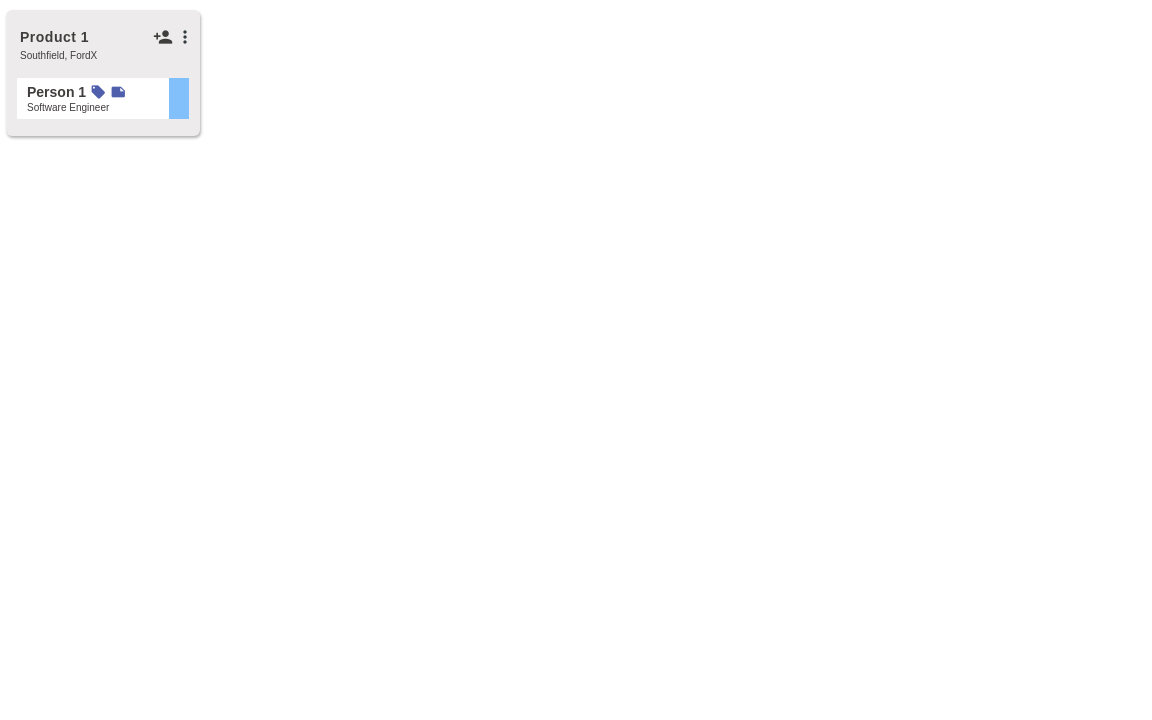
ProductCard › should show a confirmation modal when Archive Person is clicked, and be able to close it
Expected: the text "Edit Product" is not shown
Expected: the text "Archive Product" is not shown
Click the 2nd button.
click(185, 37)  # box [175,24,195,50]
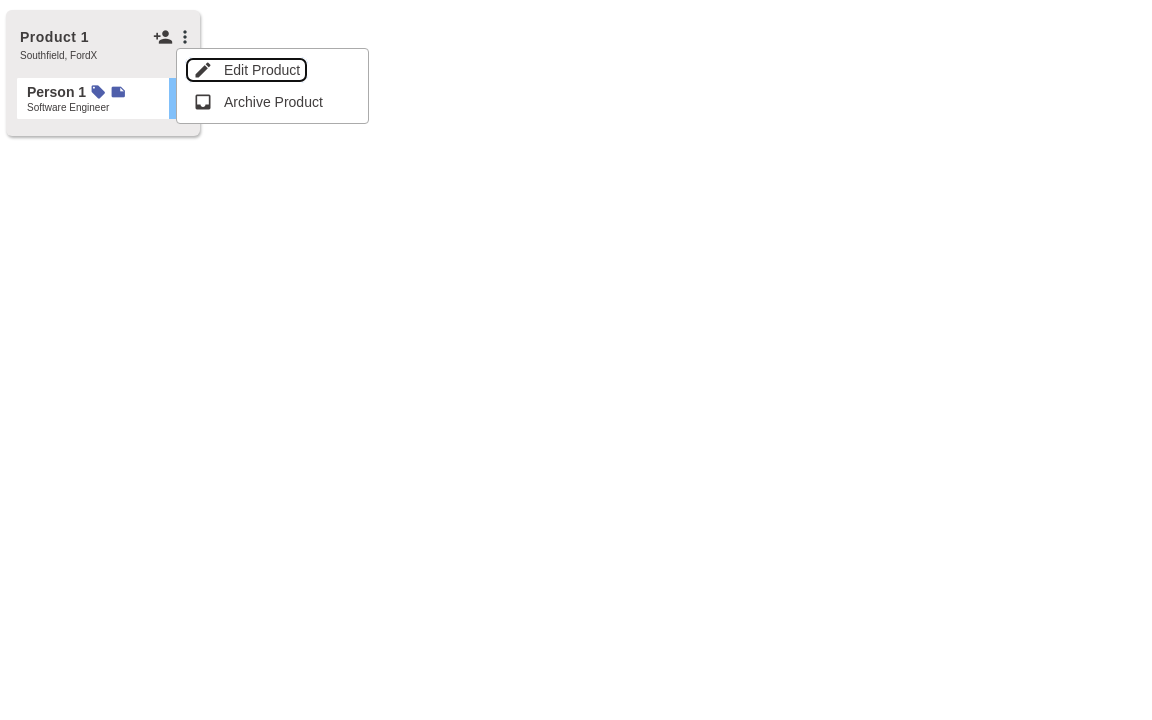
Now the text "Edit Product" is shown, box [224,62,300,78]
Now the text "Archive Product" is shown
Click the text "Archive Product".
click(273, 102)  # box [224,94,323,110]
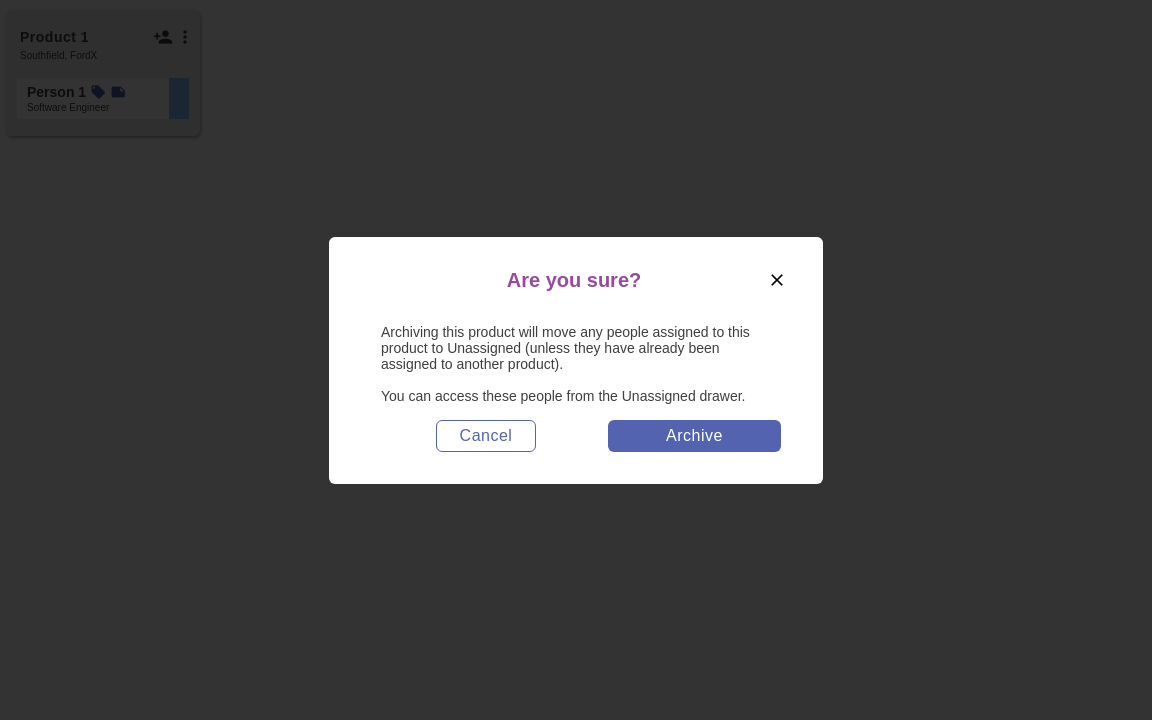
Now the heading "Are you sure?" is shown, box [507,268,641,290]
Click the button "Cancel".
click(486, 436)  # box [436,420,536,452]
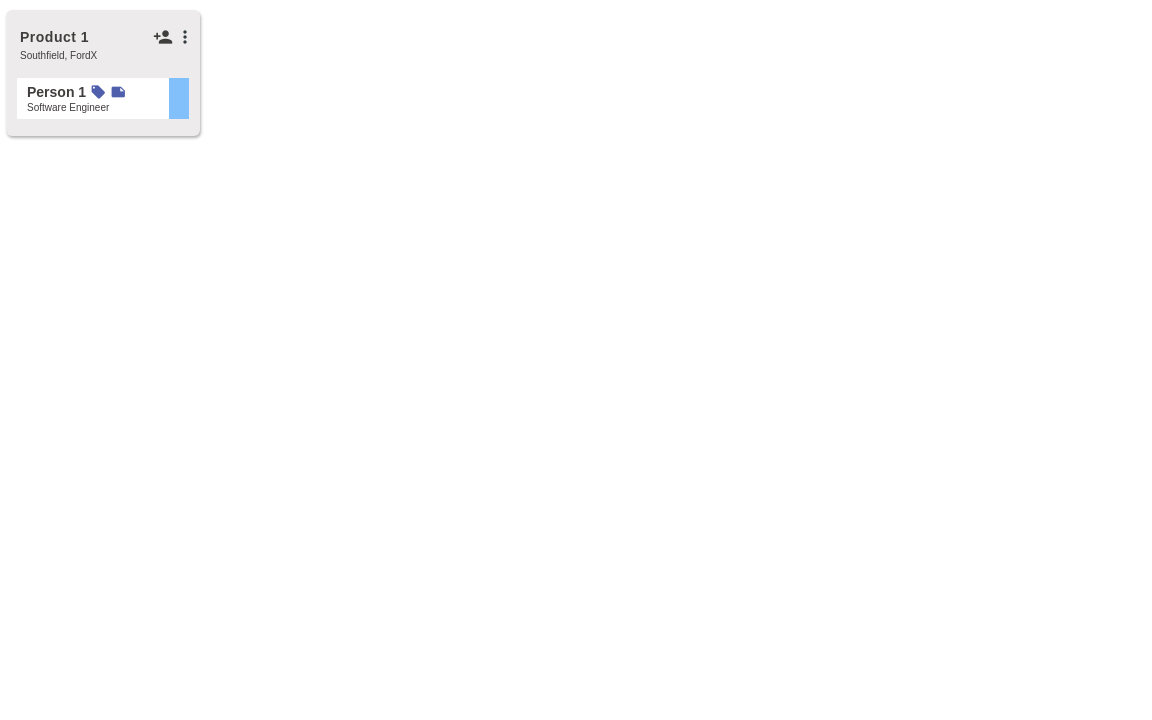
Now the heading "Are you sure?" is gone
